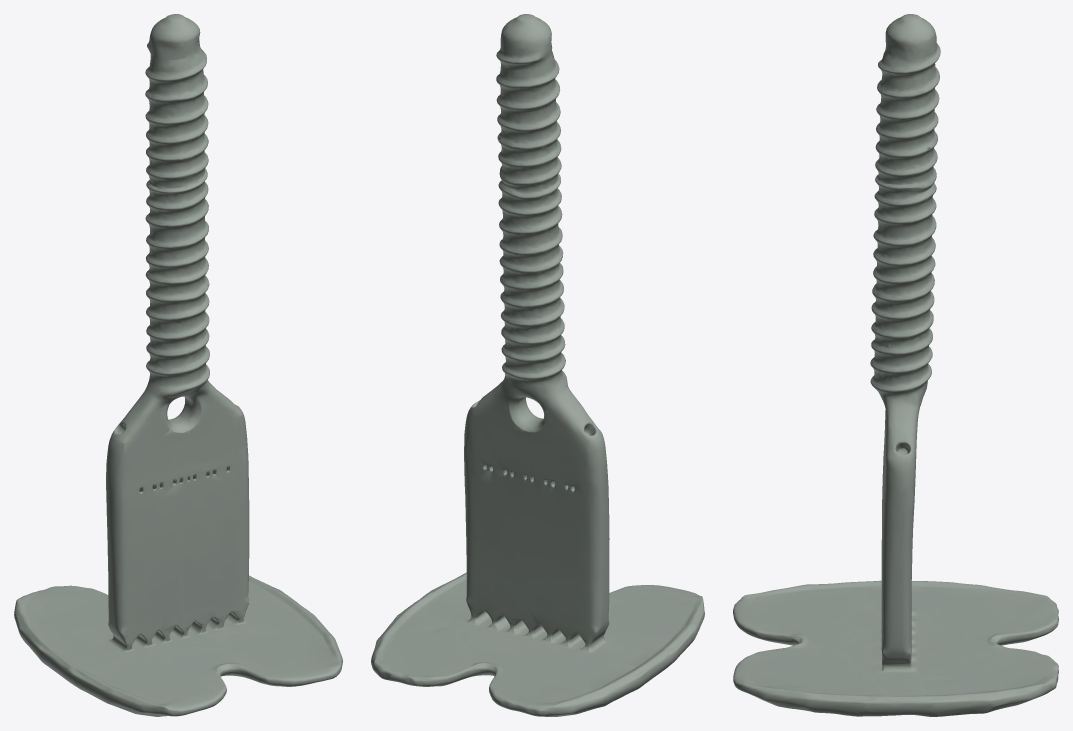
Rendered from levelling-spacer-post-blt.glb.
3 renders of one model, left to right at view 1: azimuth 30°, elevation 25°; view 2: azimuth 150°, elevation 25°; view 3: azimuth 270°, elevation 25°, orthographic. The views are drawn at different scales.
Visible parts, largest first — view 1: tripo_node_38f2c02c-fe86-405a-82df-29adfb80e725; view 2: tripo_node_38f2c02c-fe86-405a-82df-29adfb80e725; view 3: tripo_node_38f2c02c-fe86-405a-82df-29adfb80e725.
Part boxes in pixels (box(x1,y1,x2,y2)): tripo_node_38f2c02c-fe86-405a-82df-29adfb80e725: box(14, 14, 342, 716); tripo_node_38f2c02c-fe86-405a-82df-29adfb80e725: box(371, 14, 704, 716); tripo_node_38f2c02c-fe86-405a-82df-29adfb80e725: box(733, 14, 1058, 716).
Bounding box in the file's own units: 0.4052 × 1 × 0.4584.
Materials: 1 (1 with a texture image).
